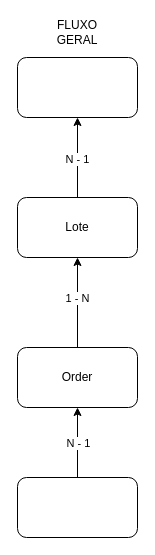
This 155x555 diagram has some shape labels left out. The centre of each missing label's shape, as x and y in pixels:
Event: [77,87]
Ticket: [77,507]
